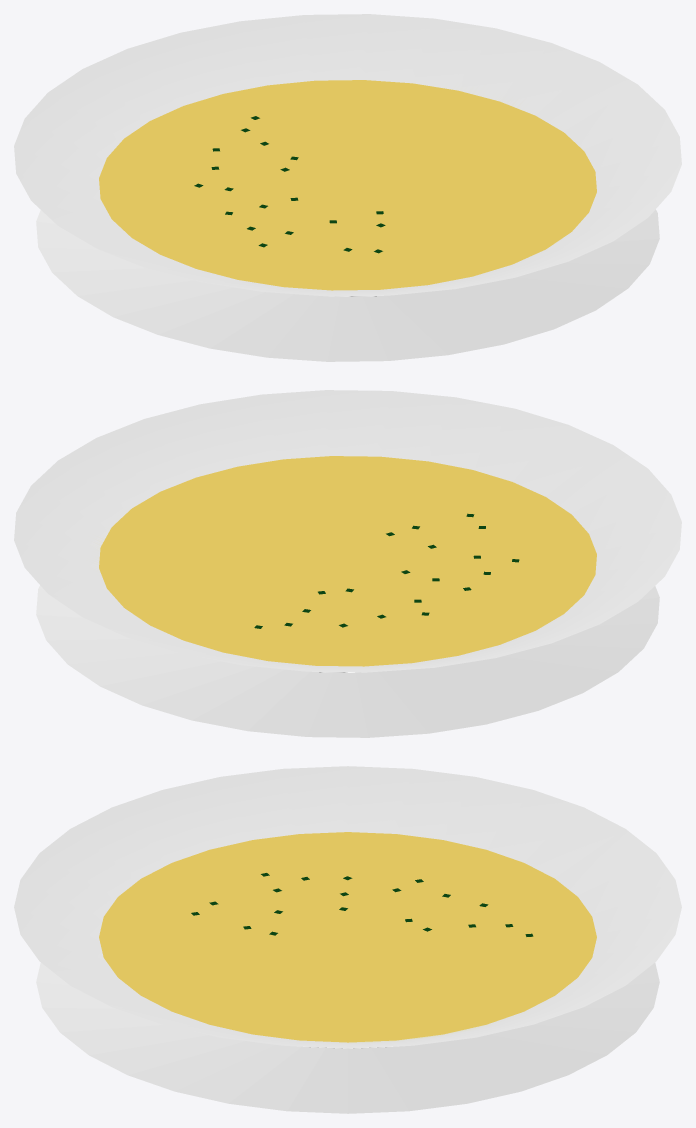
File: Soup.fbx
3 renders of one model, top to bottom at view 1: azimuth 30°, elevation 25°; view 2: azimuth 150°, elevation 25°; view 3: azimuth 270°, elevation 25°, orthographic.
Parts seen in each view (by area): view 1: 器, スープ; view 2: 器, スープ; view 3: 器, スープ.
Boxes of the visible parts, x1,y1,x2,y2 form: 器: [14, 14, 681, 361]; スープ: [99, 80, 596, 290]; 器: [14, 390, 681, 737]; スープ: [99, 456, 596, 666]; 器: [14, 766, 681, 1113]; スープ: [99, 832, 596, 1042].
Bounding box in the file's own units: 214 × 34.02 × 214.
